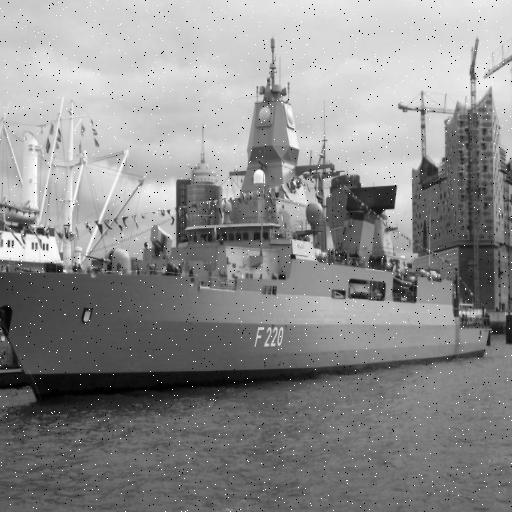Fragata: (1, 32, 493, 412)
